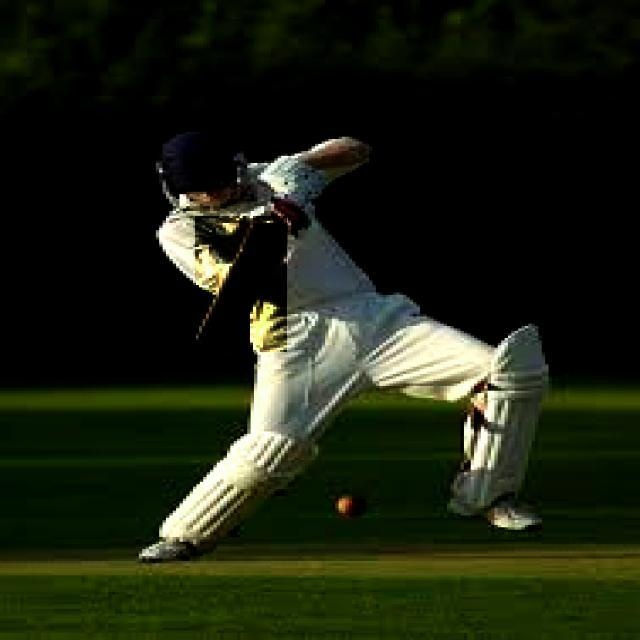bat: (192, 213, 282, 351)
toe: (191, 329, 227, 348)
